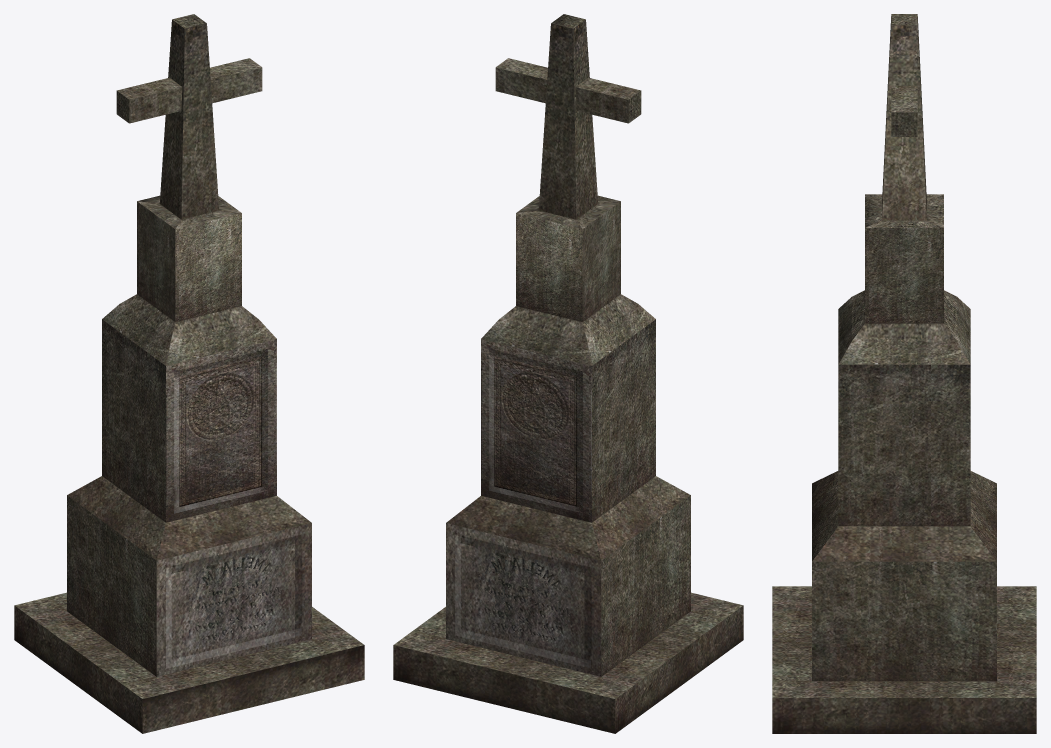
The model's file is tombstone_lg_01.fbx.
3 renders of one model, left to right at view 1: azimuth 30°, elevation 25°; view 2: azimuth 150°, elevation 25°; view 3: azimuth 270°, elevation 25°, orthographic. The views are drawn at different scales.
Visible parts, largest first — view 1: mesh_0, mesh_1, mesh_2; view 2: mesh_0, mesh_1, mesh_2; view 3: mesh_0, mesh_2.
Boxes of the visible parts, x1,y1,x2,y2 form: mesh_0: [14, 14, 364, 733]; mesh_1: [156, 339, 311, 676]; mesh_2: [116, 58, 262, 123]; mesh_0: [393, 14, 743, 733]; mesh_1: [446, 339, 601, 676]; mesh_2: [495, 58, 641, 123]; mesh_0: [772, 14, 1036, 733]; mesh_2: [891, 85, 917, 136].
Bounding box in the file's own units: 200 × 550 × 200.
2 materials, 2 textured.
